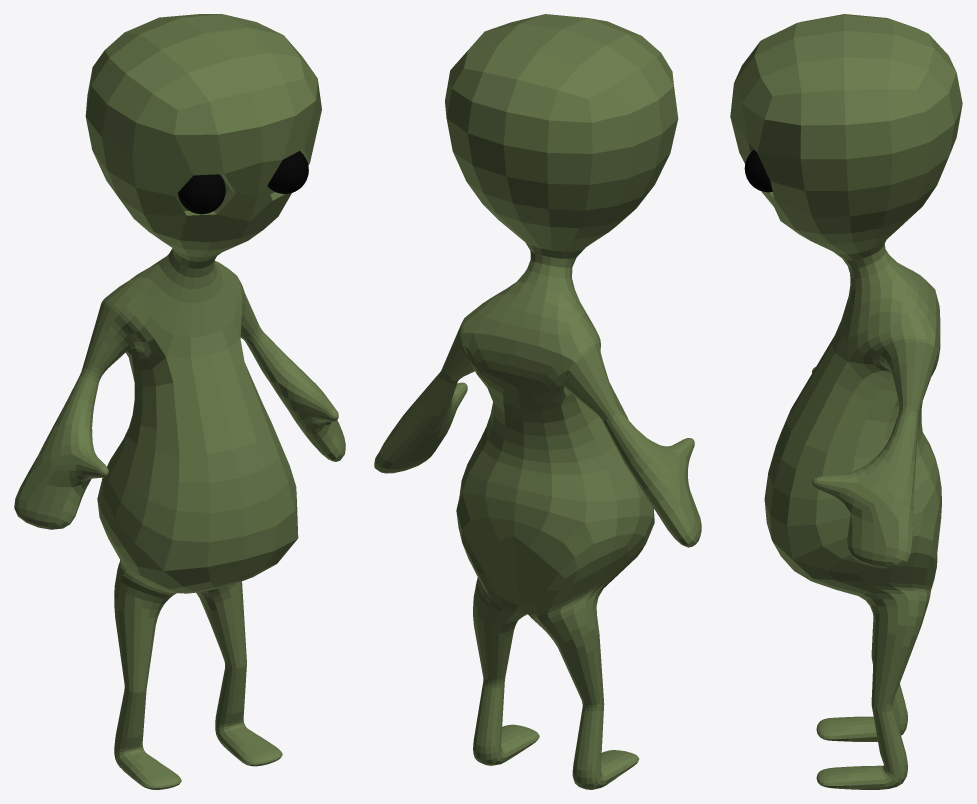
Rendered from Alien.fbx.
3 views of the same model, side by side, from view 1: azimuth 30°, elevation 25°; view 2: azimuth 150°, elevation 25°; view 3: azimuth 270°, elevation 25° (orthographic).
Parts seen in each view (by area): view 1: Eyes; view 2: Eyes; view 3: Eyes.
Boxes of the visible parts, x1,y1,x2,y2 form: Eyes: (14, 14, 345, 789); Eyes: (374, 14, 701, 789); Eyes: (730, 14, 962, 789).
Bounding box in the file's own units: 360 × 791 × 227.
